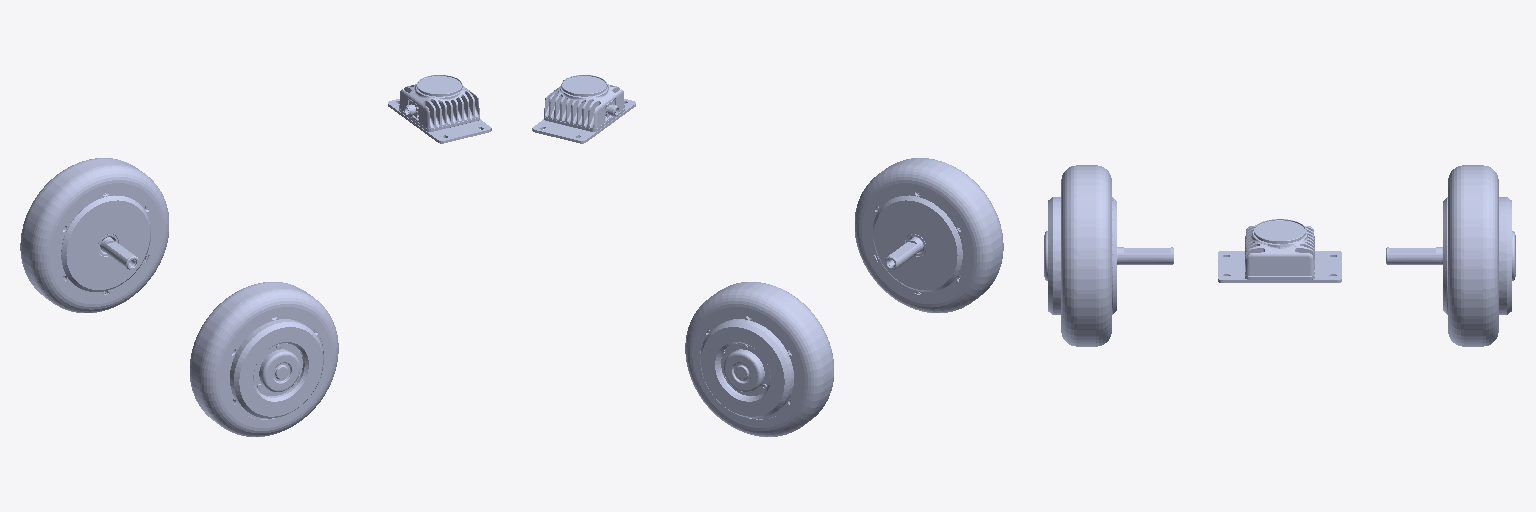
The robot description file, URDF, robot "chassis_description":
<?xml version="1.0" encoding="utf-8"?>
<!-- This URDF was automatically created by SolidWorks to URDF Exporter! Originally created by Stephen Brawner (brawner@gmail.com) 
     Commit Version: 1.6.0-4-g7f85cfe  Build Version: 1.6.7995.38578
     For more information, please see http://wiki.ros.org/sw_urdf_exporter -->
<robot
  name="chassis_description">
  <link name="base_footprint">
  </link>
  <joint name="virtual_joint" type="fixed">
    <parent link="base_footprint"/>
    <child link="chassis_base_link"/>
  </joint>

  <link
    name="chassis_base_link">
    <inertial>
      <origin
        xyz="-0.00434034119212711 0.000266309496600143 0.120392184654619"
        rpy="0 0 0" />
      <mass
        value="4.54005989598753" />
      <inertia
        ixx="0.0449679754263203"
        ixy="4.01029711578569E-06"
        ixz="-0.00460065686348625"
        iyy="0.130095947108695"
        iyz="1.53312166197668E-06"
        izz="0.166817580700565" />
    </inertial>
    <visual>
      <origin
        xyz="0 0 0"
        rpy="0 0 0" />
      <geometry>
        <mesh
          filename="package://chassis_description/meshes/chassis_base_link.STL" />
      </geometry>
      <material
        name="">
        <color
          rgba="0.792156862745098 0.819607843137255 0.933333333333333 1" />
      </material>
    </visual>
    <collision>
      <origin
        xyz="0 0 0"
        rpy="0 0 0" />
      <geometry>
        <mesh
          filename="package://chassis_description/meshes/chassis_base_link.STL" />
      </geometry>
    </collision>
  </link>
  <link
    name="left_wheel_link">
    <inertial>
      <origin
        xyz="1.56080033113202E-07 0.00145041104119339 -8.25274820524108E-06"
        rpy="0 0 0" />
      <mass
        value="0.715520501033217" />
      <inertia
        ixx="0.00164788517952949"
        ixy="-7.02799772263634E-10"
        ixz="-9.55648885350931E-09"
        iyy="0.00310618745643764"
        iyz="-4.76958782964827E-08"
        izz="0.00164786194598849" />
    </inertial>
    <visual>
      <origin
        xyz="0 0 0"
        rpy="0 0 0" />
      <geometry>
        <mesh
          filename="package://chassis_description/meshes/left_wheel_link.STL" />
      </geometry>
      <material
        name="">
        <color
          rgba="0.792156862745098 0.819607843137255 0.933333333333333 1" />
      </material>
    </visual>
    <collision>
      <origin
        xyz="0 0 0"
        rpy="0 0 0" />
      <geometry>
        <mesh
          filename="package://chassis_description/meshes/left_wheel_link.STL" />
      </geometry>
    </collision>
  </link>
  <joint
    name="chassis_to_left_wheel"
    type="continuous">
    <origin
      xyz="0 0.177500027911101 0.0385000562004271"
      rpy="0 0 0" />
    <parent
      link="chassis_base_link" />
    <child
      link="left_wheel_link" />
    <axis
      xyz="0 1 0" />
  </joint>
  <link
    name="right_wheel_link">
    <inertial>
      <origin
        xyz="1.03332626963997E-06 0.00154967310235005 -9.70757445594578E-06"
        rpy="0 0 0" />
      <mass
        value="0.715524358201097" />
      <inertia
        ixx="0.00164797962867649"
        ixy="5.42408180730075E-10"
        ixz="3.53510230671916E-08"
        iyy="0.0031061793024967"
        iyz="4.77052974064E-08"
        izz="0.00164776145343699" />
    </inertial>
    <visual>
      <origin
        xyz="0 0 0"
        rpy="0 0 0" />
      <geometry>
        <mesh
          filename="package://chassis_description/meshes/right_wheel_link.STL" />
      </geometry>
      <material
        name="">
        <color
          rgba="0.792156862745098 0.819607843137255 0.933333333333333 1" />
      </material>
    </visual>
    <collision>
      <origin
        xyz="0 0 0"
        rpy="0 0 0" />
      <geometry>
        <mesh
          filename="package://chassis_description/meshes/right_wheel_link.STL" />
      </geometry>
    </collision>
  </link>
  <joint
    name="chassis_to_right_wheel"
    type="continuous">
    <origin
      xyz="0 -0.180499971998694 0.0385000562004283"
      rpy="0 0 0" />
    <parent
      link="chassis_base_link" />
    <child
      link="right_wheel_link" />
    <axis
      xyz="0 -1 0" />
  </joint>
  <link
    name="livox_frame">
    <inertial>
      <origin
        xyz="-0.000277323956395459 -5.4205278428655E-06 -0.0316285012201606"
        rpy="0 0 0" />
      <mass
        value="0.127996255651444" />
      <inertia
        ixx="5.91707150421098E-05"
        ixy="6.02908274357884E-09"
        ixz="3.91655581456532E-07"
        iyy="4.63299872466488E-05"
        iyz="4.06020781048492E-09"
        izz="9.09794984615253E-05" />
    </inertial>
    <visual>
      <origin
        xyz="0 0 0"
        rpy="0 0 0" />
      <geometry>
        <mesh
          filename="package://chassis_description/meshes/lidar_frame.STL" />
      </geometry>
      <material
        name="">
        <color
          rgba="0.792156862745098 0.819607843137255 0.933333333333333 1" />
      </material>
    </visual>
    <collision>
      <origin
        xyz="0 0 0"
        rpy="0 0 0" />
      <geometry>
        <mesh
          filename="package://chassis_description/meshes/lidar_frame.STL" />
      </geometry>
    </collision>
  </link>
  <joint
    name="chassis_base_to_lidar"
    type="fixed">
    <origin
      xyz="0.31775 0 0.2207971"
      rpy="0 0 0" />
    <parent
      link="chassis_base_link" />
    <child
      link="livox_frame" />
    <axis
      xyz="0 0 0" />
  </joint>
</robot>

--- What the picture shows (computed from the rendered views, not written in the file) ---
The picture shows the robot from 3 angles, left to right: view 1: azimuth 30°, elevation 25°; view 2: azimuth 150°, elevation 25°; view 3: azimuth 270°, elevation 25°; orthographic projection.
Model chassis_description with 5 links and 4 joints (2 continuous, 2 fixed), rooted at base_footprint, posed all joints at 0.
Visible links, largest first — view 1: left_wheel_link, right_wheel_link, livox_frame; view 2: right_wheel_link, left_wheel_link, livox_frame; view 3: left_wheel_link, right_wheel_link, livox_frame.
Link boxes in pixels (bbox=[...]): left_wheel_link: bbox=[20, 158, 168, 312]; right_wheel_link: bbox=[190, 282, 338, 436]; livox_frame: bbox=[388, 75, 491, 143]; right_wheel_link: bbox=[855, 158, 1003, 312]; left_wheel_link: bbox=[685, 282, 833, 436]; livox_frame: bbox=[532, 75, 635, 143]; left_wheel_link: bbox=[1386, 165, 1515, 346]; right_wheel_link: bbox=[1044, 165, 1173, 346]; livox_frame: bbox=[1218, 219, 1341, 282].
Size in the robot's own frame: 0.4342 by 0.436 by 0.2588 metres.
3 mesh visuals loaded from 4 distinct referenced files (3 binary STL); not drawn: 1 (reference not matched to a file when rendering).
